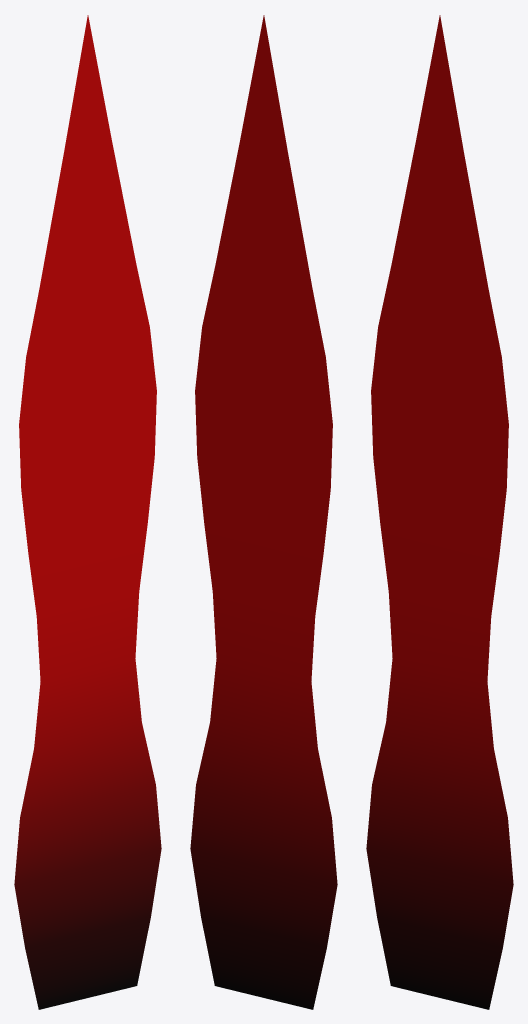
File: Kelp01.fbx
3 views of the same model, side by side, from view 1: azimuth 30°, elevation 25°; view 2: azimuth 150°, elevation 25°; view 3: azimuth 330°, elevation 25° (orthographic).
Parts seen in each view (by area): view 1: Plane.003; view 2: Plane.003; view 3: Plane.003.
Boxes of the visible parts, left/top/right/bottom form: Plane.003: left=14, top=15, right=161, bottom=1009; Plane.003: left=190, top=15, right=337, bottom=1009; Plane.003: left=366, top=15, right=513, bottom=1009.
Size of the model in its own units: 0.1334 by 0.8524 by 1.31e-08.
